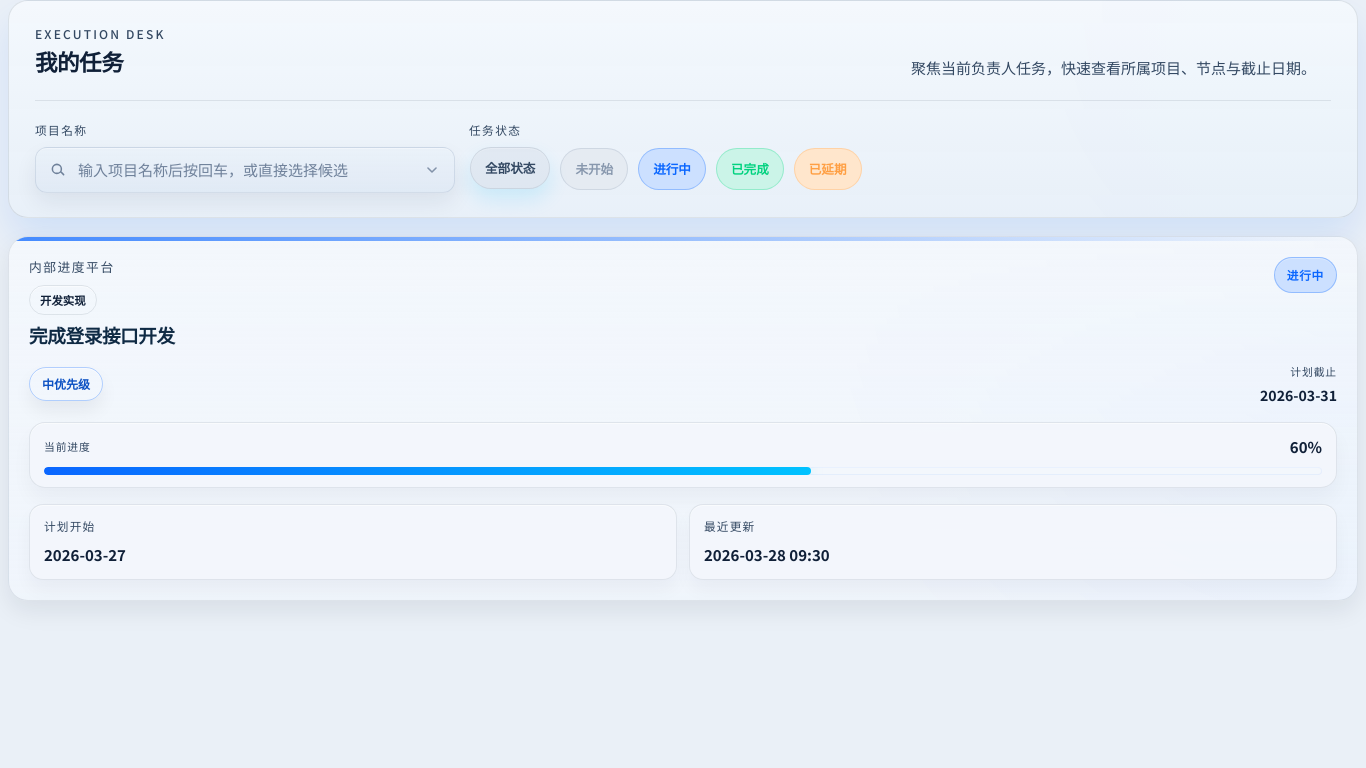
Test case: MyTasksView › opens the task progress dialog from a task card and loads the latest 20 history records
Expected: the heading "完成登录接口开发" is shown, [29, 323, 175, 346]
Click the button with test id "my-task-card-3001" at (683, 418), box [8, 236, 1358, 601]
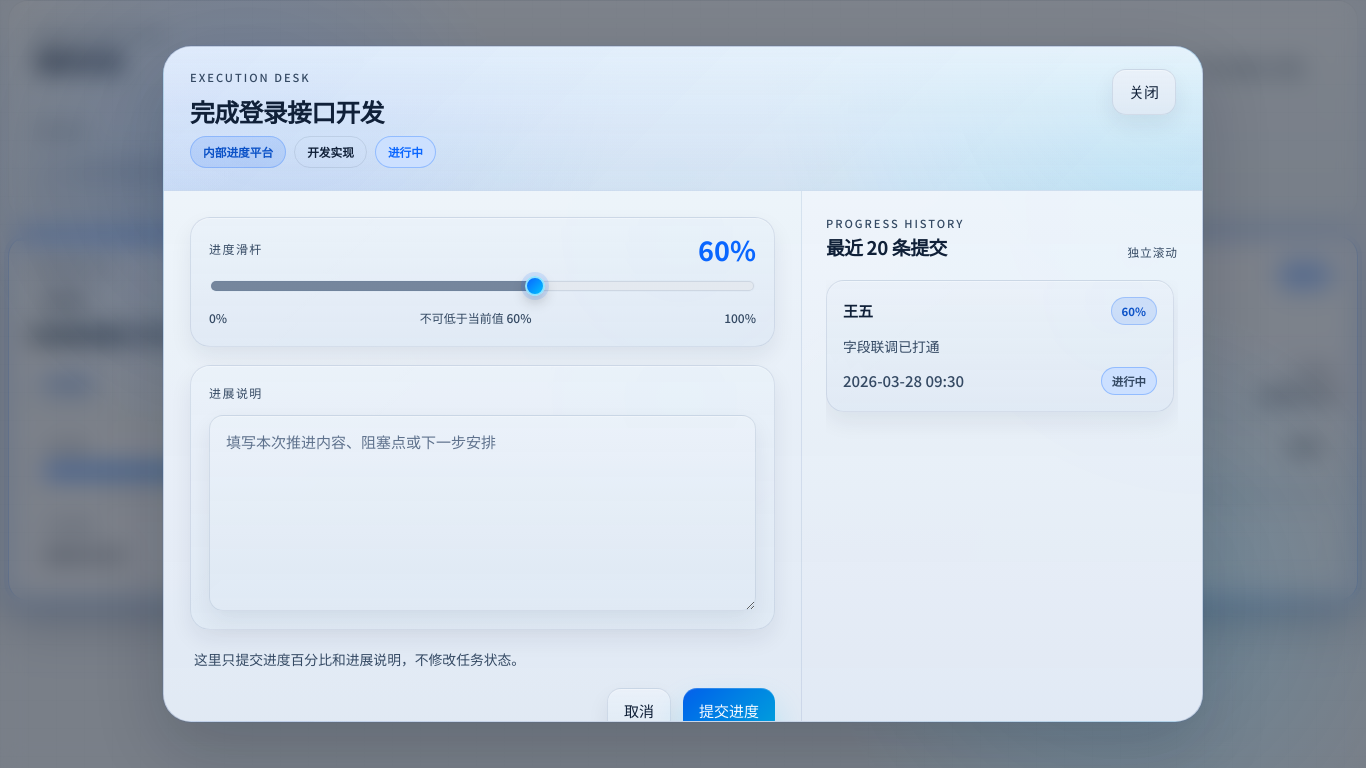
Expected: the heading "最近 20 条提交" is shown, [826, 232, 964, 262]
Expected: the text "字段联调已打通" is shown, [843, 336, 940, 356]
